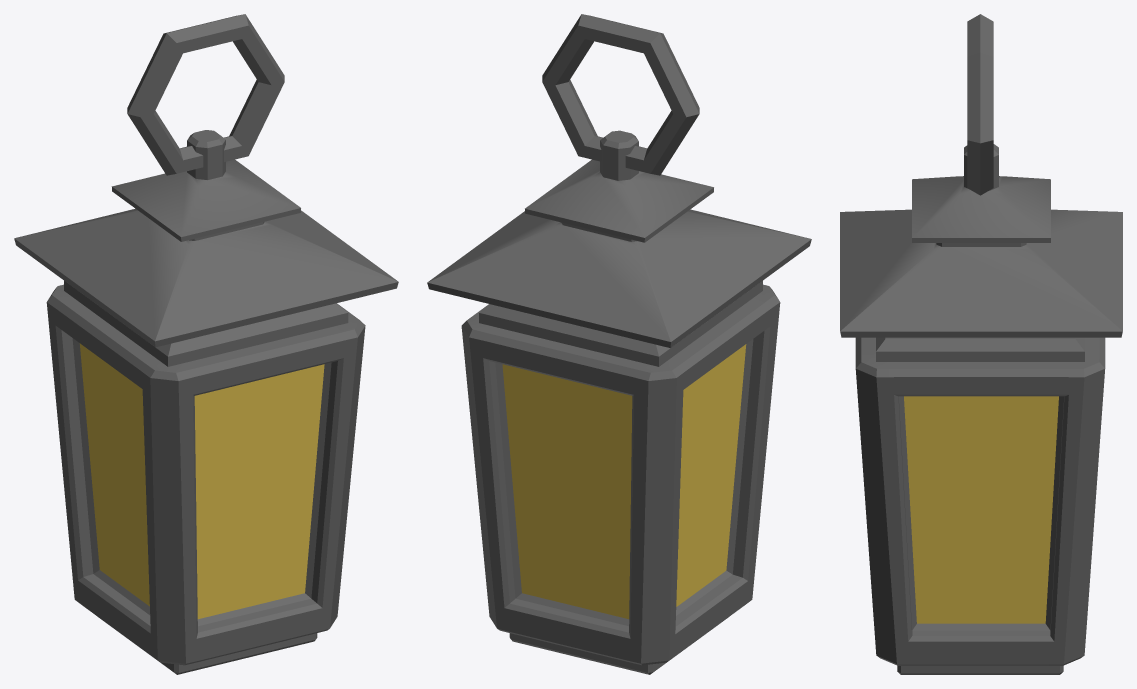
The model's file is Lantern.fbx.
The picture shows the model from 3 angles, left to right: view 1: azimuth 30°, elevation 25°; view 2: azimuth 150°, elevation 25°; view 3: azimuth 270°, elevation 25°; orthographic projection.
Visible parts, largest first — view 1: pTorus2; view 2: pTorus2; view 3: pTorus2.
Part boxes in pixels (left/top/right/bottom): pTorus2: left=14, top=14, right=398, bottom=674; pTorus2: left=427, top=14, right=811, bottom=674; pTorus2: left=840, top=14, right=1122, bottom=674.
Size of the model in its own units: 40.84 by 96.92 by 40.84.
